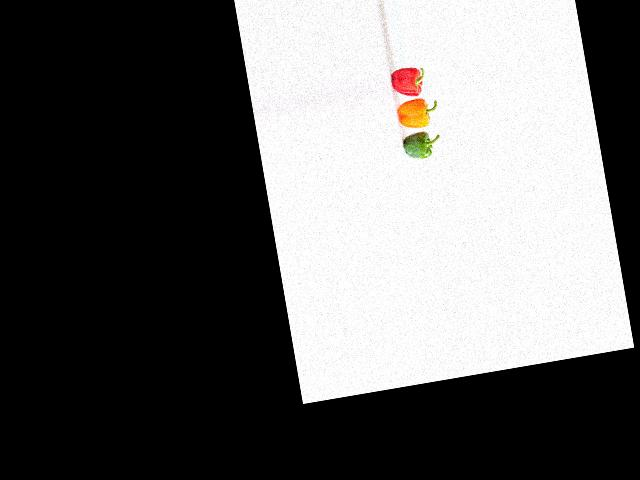bell_pepper: (390, 61, 435, 100)
